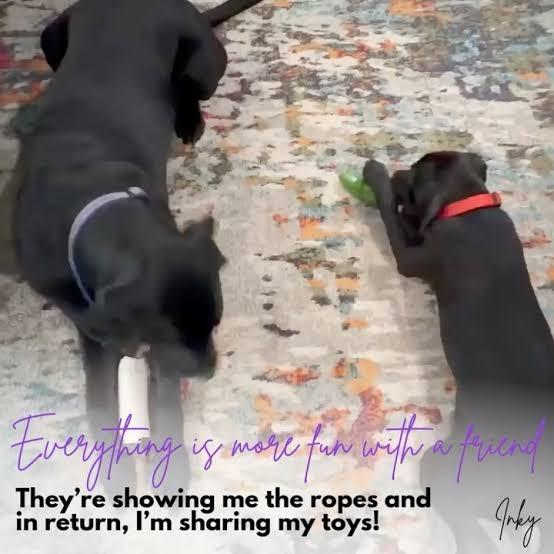adult_dog: (12, 1, 254, 494)
puppy-dog: (362, 147, 554, 551)
